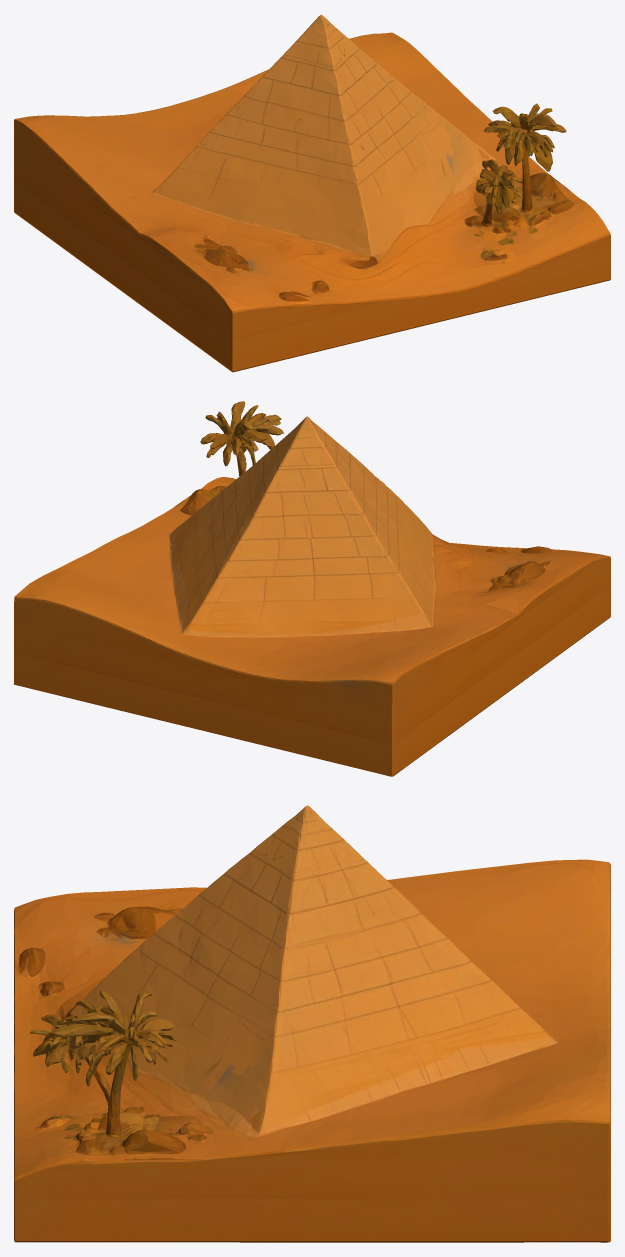
Rendered from dune2.fbx.
3 renders of one model, top to bottom at view 1: azimuth 30°, elevation 25°; view 2: azimuth 150°, elevation 25°; view 3: azimuth 270°, elevation 25°, orthographic. The views are drawn at different scales.
Parts seen in each view (by area): view 1: textured_mesh.obj; view 2: textured_mesh.obj; view 3: textured_mesh.obj.
Boxes of the visible parts, x1,y1,x2,y2 form: textured_mesh.obj: (14,14,610,372); textured_mesh.obj: (14,401,610,776); textured_mesh.obj: (14,805,610,1242).
Size of the model in its own units: 199 by 116 by 199.
Materials: 1 (1 with a texture image).
